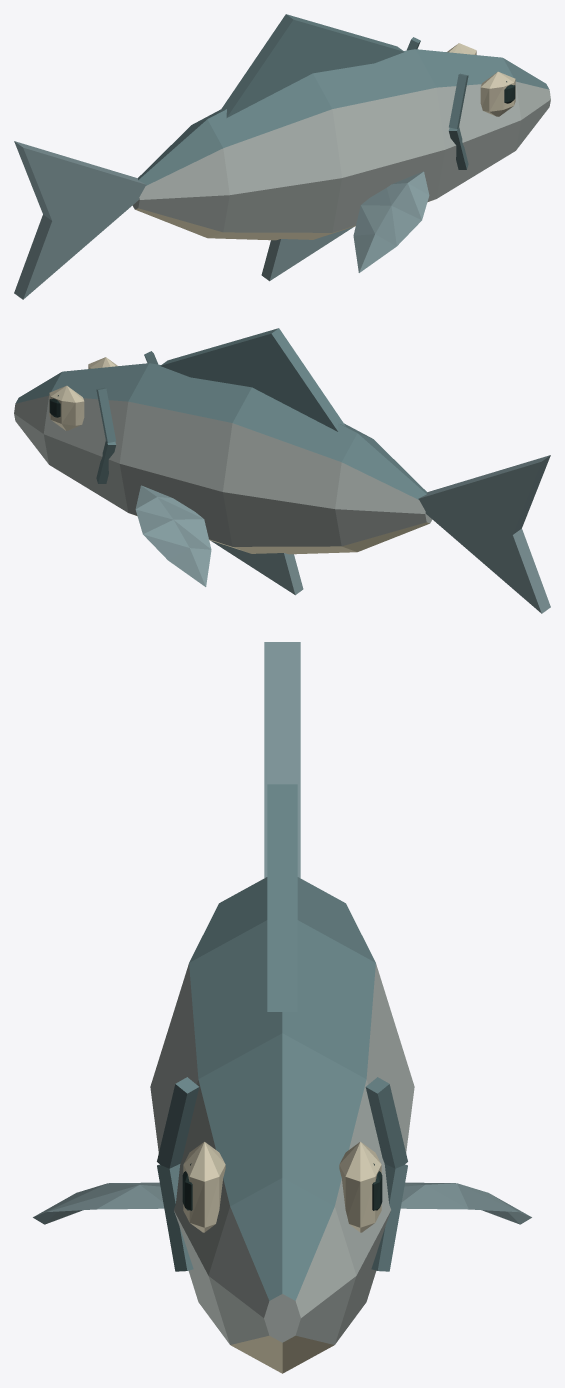
The model's file is fish_silverscale.glb.
3 views of the same model, one above another, from view 1: azimuth 30°, elevation 25°; view 2: azimuth 150°, elevation 25°; view 3: azimuth 270°, elevation 25° (orthographic). The views are drawn at different scales.
Visible parts, largest first — view 1: fish_silverscale; view 2: fish_silverscale; view 3: fish_silverscale.
Part boxes in pixels (x1,y1,x2,y2): fish_silverscale: [14, 14, 550, 299]; fish_silverscale: [14, 328, 550, 613]; fish_silverscale: [33, 642, 531, 1373].
Bounding box in the file's own units: 0.5995 × 0.2774 × 0.2459.
